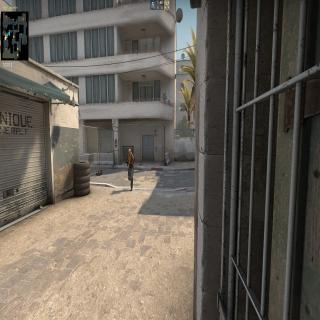T-Head: (128, 148, 132, 157)
